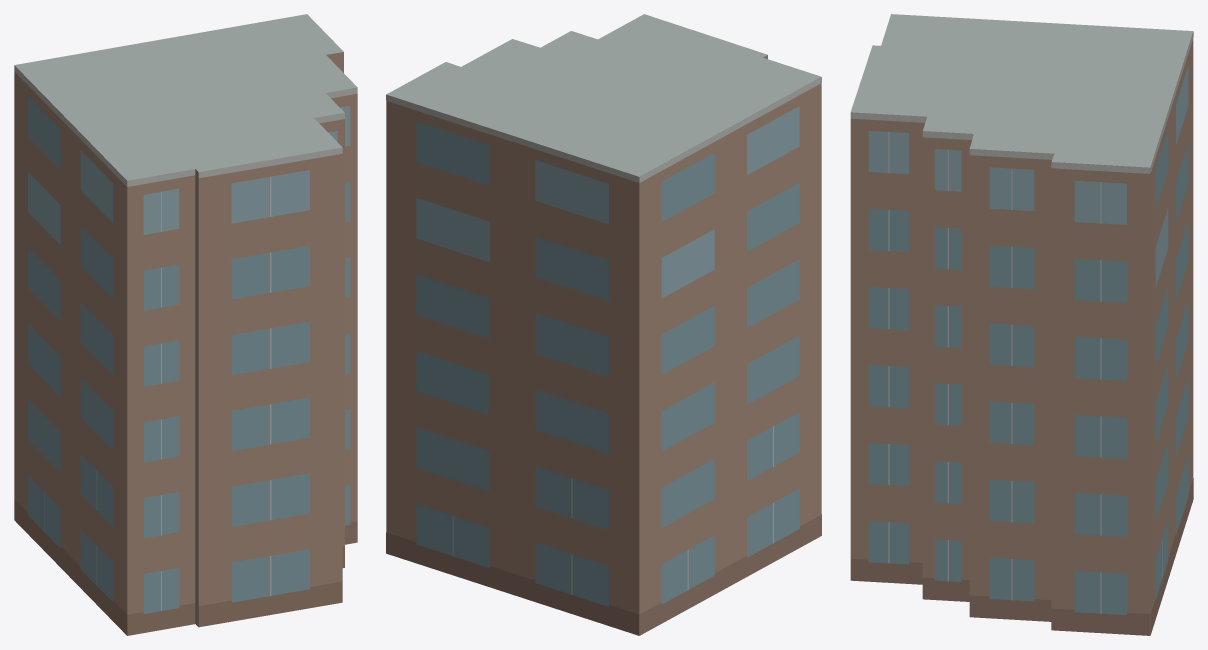
Rendered from survey-upis-32663671.glb.
3 renders of one model, left to right at view 1: azimuth 30°, elevation 25°; view 2: azimuth 150°, elevation 25°; view 3: azimuth 270°, elevation 25°, orthographic. The views are drawn at different scales.
Parts seen in each view (by area): view 1: survey-upis-32663671.tmp; view 2: survey-upis-32663671.tmp; view 3: survey-upis-32663671.tmp.
Boxes of the visible parts, x1=… form: survey-upis-32663671.tmp: x1=14, y1=14, x2=357, y2=635; survey-upis-32663671.tmp: x1=386, y1=14, x2=821, y2=635; survey-upis-32663671.tmp: x1=850, y1=14, x2=1193, y2=635.
Size of the model in its own units: 12.71 by 18.05 by 11.99.
